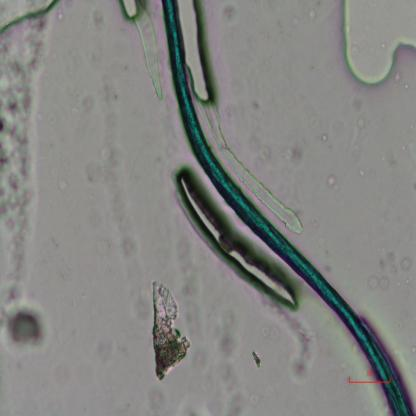Air bubble: (175, 168, 299, 308), (342, 2, 414, 86), (177, 0, 213, 104), (0, 0, 67, 37), (120, 0, 142, 21)
Background material: (0, 13, 37, 298), (96, 125, 146, 271), (146, 278, 192, 385), (210, 310, 245, 412), (173, 232, 205, 338), (132, 11, 170, 96), (275, 309, 320, 378), (1, 298, 51, 354), (98, 76, 123, 134), (272, 137, 306, 167), (376, 253, 413, 278), (251, 140, 276, 173), (362, 264, 389, 294), (218, 2, 237, 27), (326, 172, 346, 194), (90, 7, 106, 34), (263, 331, 283, 343), (252, 347, 262, 371), (79, 97, 96, 109), (318, 130, 331, 144)
Microfibre: (159, 0, 413, 415)
